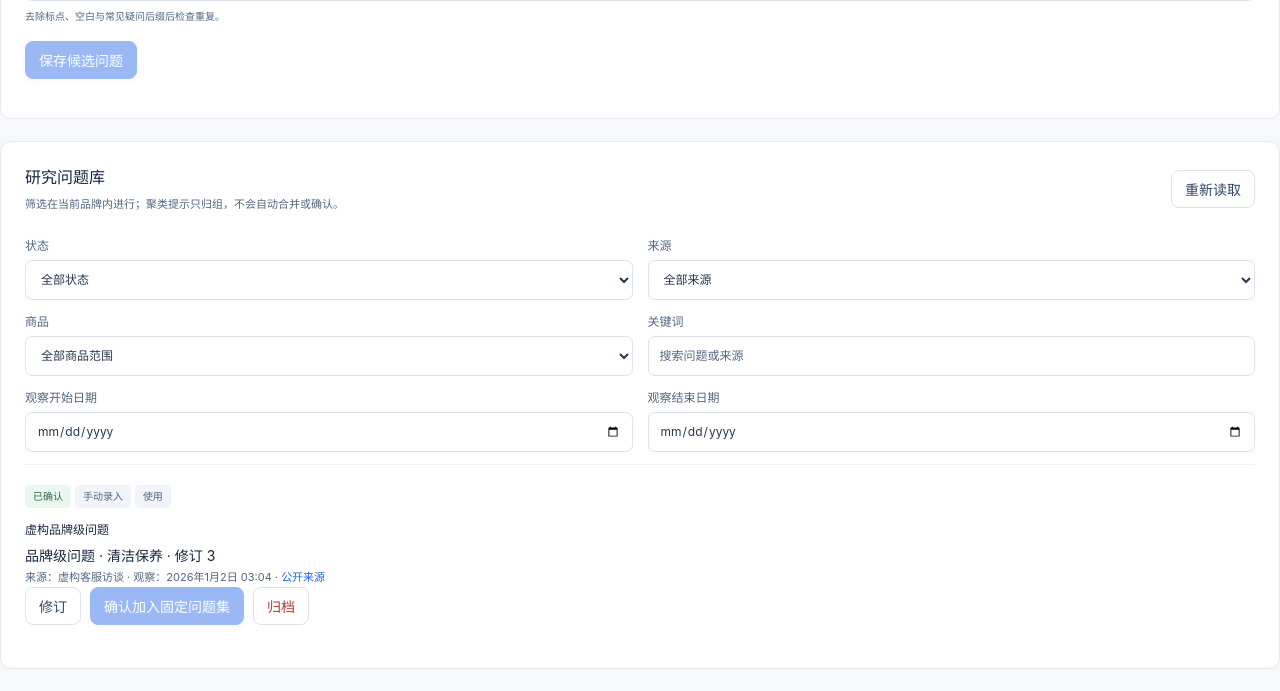
Scenario: uses_optimistic_revision_when_archiving_and_disables_generic_fixed_question_action
(page scrolled)
Expected: the heading "虚构品牌级问题" is shown, [25,522,109,536]
Expected: the button "确认加入固定问题集" is disabled, [90,587,244,625]
Click the button "归档". click: (281, 606)
box: [253,587,309,625]
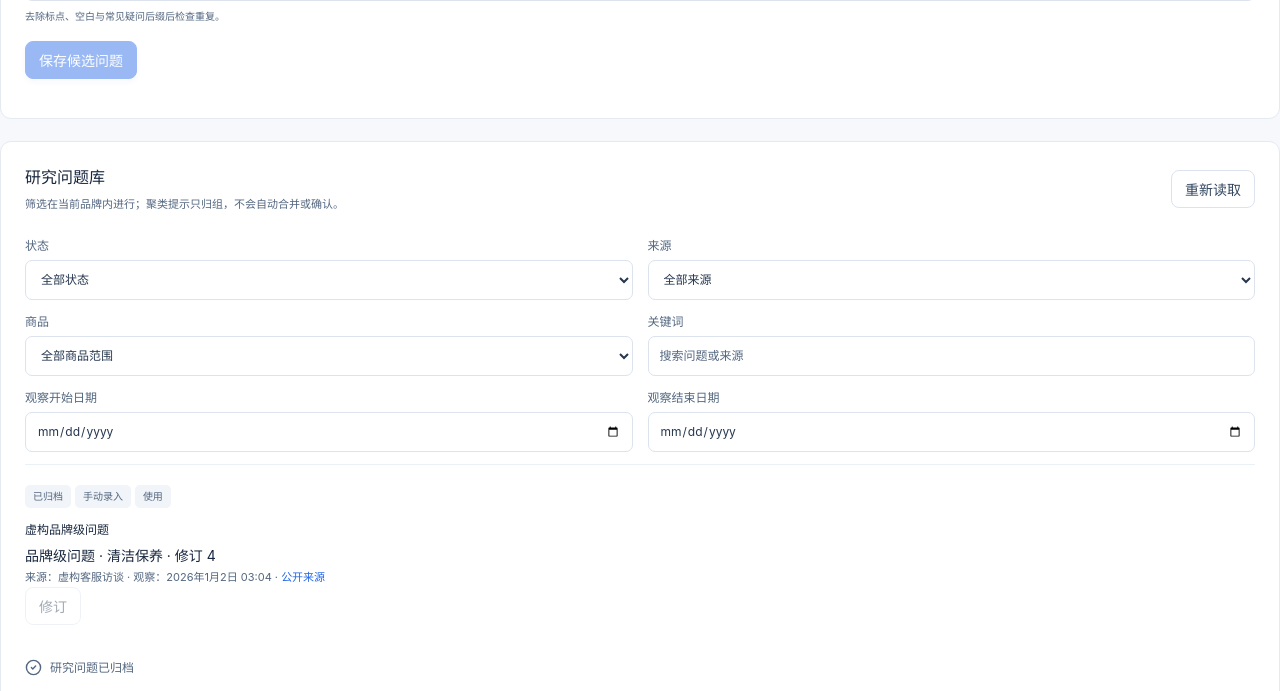
Result: the text "研究问题已归档" is shown at [25,659,134,676]
